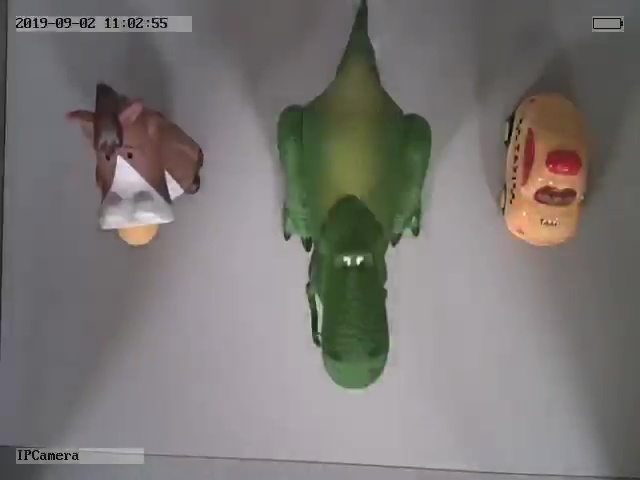car: (499, 89, 591, 248)
horse: (67, 82, 206, 248)
rex: (276, 2, 432, 391)
